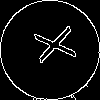X: (25, 25, 77, 67)
